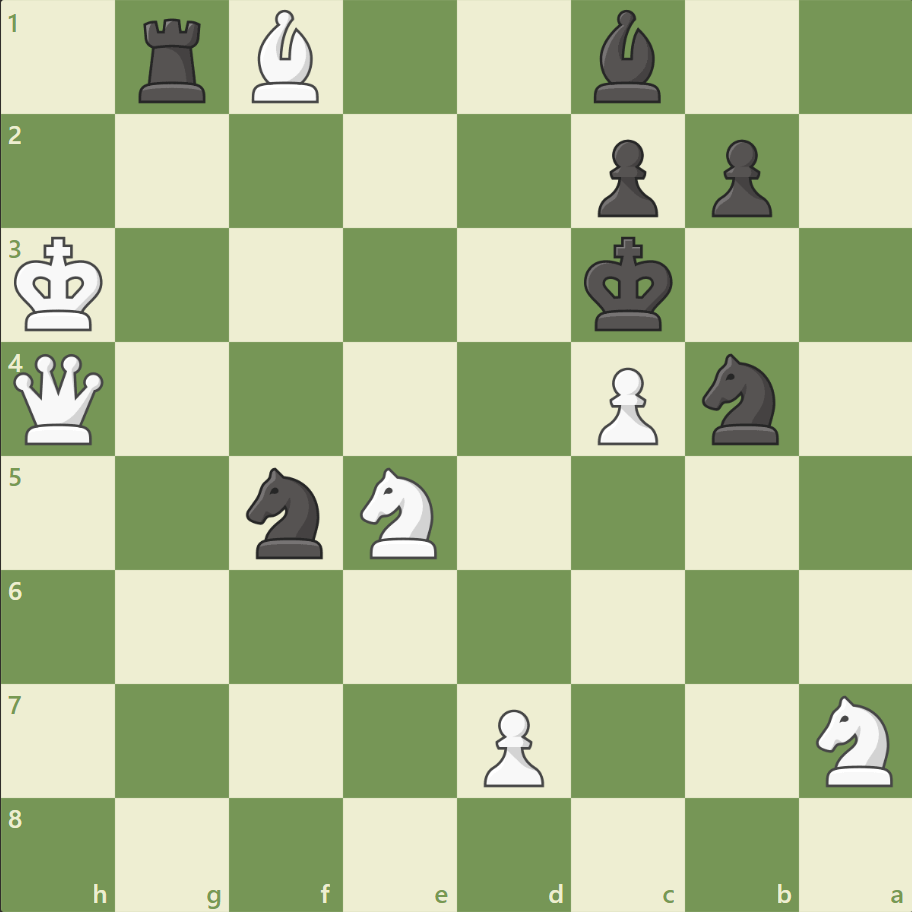B: (244, 6, 328, 109)
K: (11, 231, 111, 339)
N: (351, 461, 449, 564), (806, 688, 903, 791)
P: (474, 700, 549, 791), (588, 359, 662, 450)
Q: (10, 349, 109, 449)
b: (585, 6, 669, 109)
k: (579, 231, 679, 339)
n: (238, 461, 335, 564), (692, 348, 789, 450)
p: (701, 132, 776, 223), (588, 132, 662, 223)
r: (133, 12, 215, 109)
